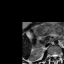CCS_normal: (54, 52, 56, 61)
LFS_normal: (58, 51, 60, 58)
LLS_normal: (56, 51, 58, 59)
RFS_normal: (50, 51, 52, 59)
RLS_normal: (52, 52, 54, 59)
